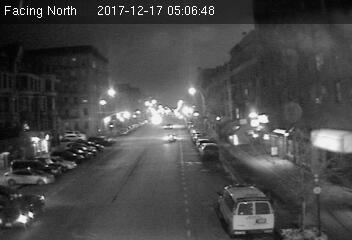car: (164, 133, 179, 143)
police: (217, 182, 274, 233)
